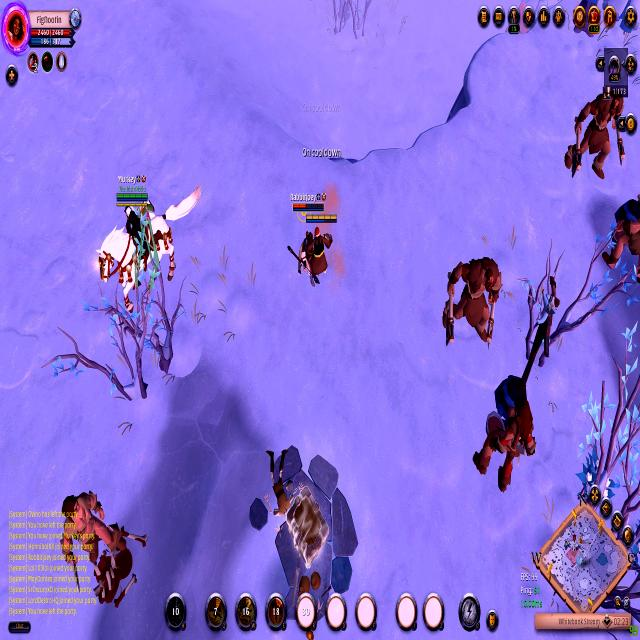ore: (461, 399, 540, 497), (57, 488, 129, 584), (438, 248, 506, 344), (560, 87, 630, 175), (600, 190, 640, 278)
red: (95, 168, 206, 326), (286, 192, 328, 280), (304, 212, 340, 286)
